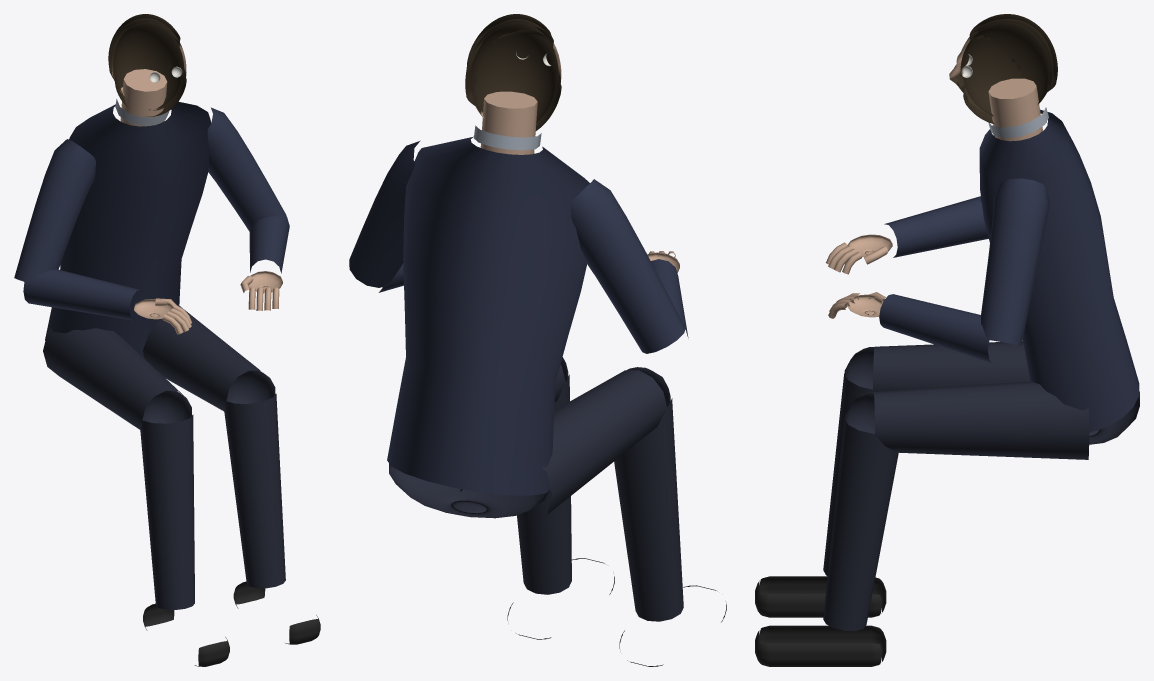
The model's file is fire_control_seated.glb.
3 views of the same model, side by side, from view 1: azimuth 30°, elevation 25°; view 2: azimuth 150°, elevation 25°; view 3: azimuth 270°, elevation 25° (orthographic). The views are drawn at different scales.
Visible parts, largest first — view 1: body, head; view 2: body, head; view 3: body, head.
Part boxes in pixels (left/top/right/bottom): body: left=14, top=69, right=320, bottom=666; head: left=108, top=14, right=186, bottom=116; body: left=349, top=91, right=726, bottom=666; head: left=465, top=14, right=561, bottom=131; body: left=755, top=78, right=1139, bottom=666; head: left=949, top=14, right=1057, bottom=124.
Size of the model in its own units: 0.7066 by 1.41 by 0.7922.
